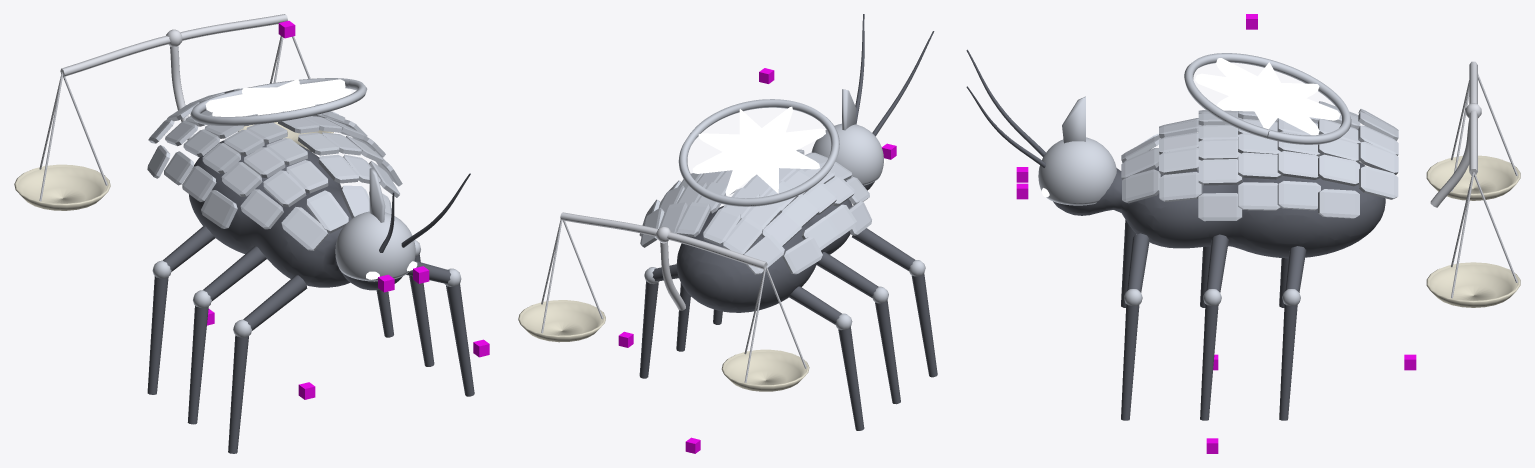
File: 04_scudo_stellato_michele.glb
3 renders of one model, left to right at view 1: azimuth 30°, elevation 25°; view 2: azimuth 150°, elevation 25°; view 3: azimuth 270°, elevation 25°, orthographic. The views are drawn at different scales.
Visible parts, largest first — view 1: Michele__Placche_Armatura, Michele__Corpo_Acciaio, Michele__Catene, Michele__Piatti_Bilancia, Michele__Scudo_Stella; view 2: Michele__Placche_Armatura, Michele__Corpo_Acciaio, Michele__Scudo_Stella, Michele__Piatti_Bilancia, Michele__Catene; view 3: Michele__Placche_Armatura, Michele__Corpo_Acciaio, Michele__Piatti_Bilancia, Michele__Scudo_Stella, Michele__Catene.
Boxes of the visible parts, left/top/right/bottom form: Michele__Placche_Armatura: left=147, top=78, right=461, bottom=337; Michele__Corpo_Acciaio: left=147, top=138, right=474, bottom=453; Michele__Catene: left=39, top=14, right=310, bottom=201; Michele__Piatti_Bilancia: left=14, top=122, right=333, bottom=210; Michele__Scudo_Stella: left=205, top=79, right=351, bottom=116; Michele__Placche_Armatura: left=639, top=89, right=925, bottom=329; Michele__Corpo_Acciaio: left=639, top=14, right=937, bottom=430; Michele__Scudo_Stella: left=692, top=106, right=825, bottom=195; Michele__Piatti_Bilancia: left=518, top=300, right=809, bottom=391; Michele__Catene: left=541, top=212, right=806, bottom=382; Michele__Placche_Armatura: left=1038, top=53, right=1398, bottom=305; Michele__Corpo_Acciaio: left=966, top=49, right=1385, bottom=420; Michele__Piatti_Bilancia: left=1426, top=155, right=1520, bottom=307; Michele__Scudo_Stella: left=1195, top=58, right=1340, bottom=135; Michele__Catene: left=1430, top=61, right=1517, bottom=298.
Bounding box in the file's own units: 2.86 × 2.94 × 4.2.
